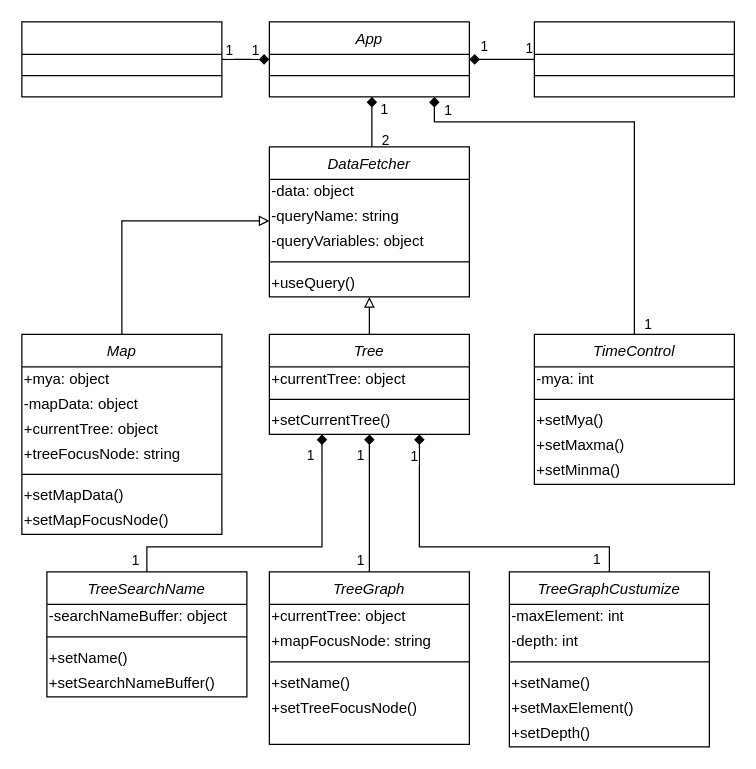
Image size: 756x769. Some labels were removed from this diagram. Here are the shapes that lost their labels. From the top down, the centre of each, then its label:
At pixel 121 59: "Header".
At pixel 633 59: "Footer".
